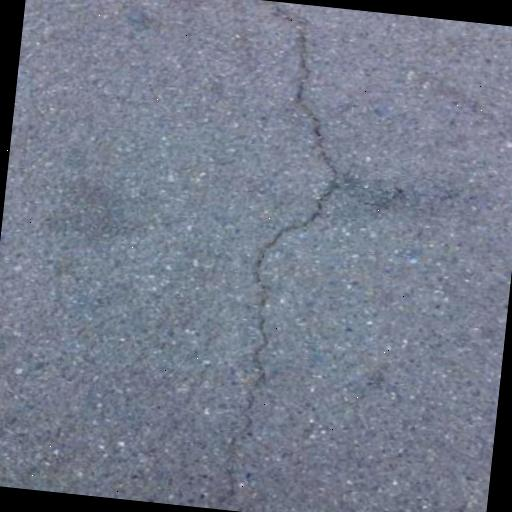spalling: (205, 6, 351, 499)
